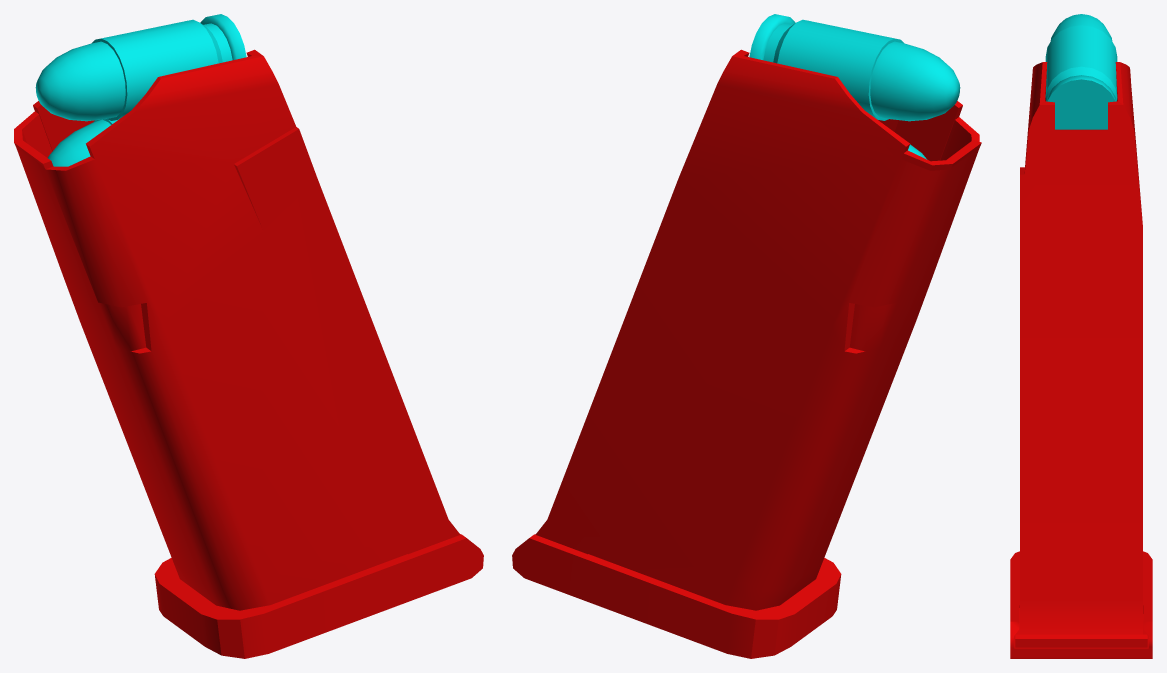
The model's file is GlockMag.fbx.
3 renders of one model, left to right at view 1: azimuth 30°, elevation 25°; view 2: azimuth 150°, elevation 25°; view 3: azimuth 270°, elevation 25°, orthographic. The views are drawn at different scales.
Parts seen in each view (by area): view 1: pCube28; view 2: pCube28; view 3: pCube28.
Boxes of the visible parts, x1,y1,x2,y2 form: pCube28: (14,14,483,658); pCube28: (512,14,981,658); pCube28: (1010,14,1152,658).
Size of the model in its own units: 70.94 by 100 by 24.74.
